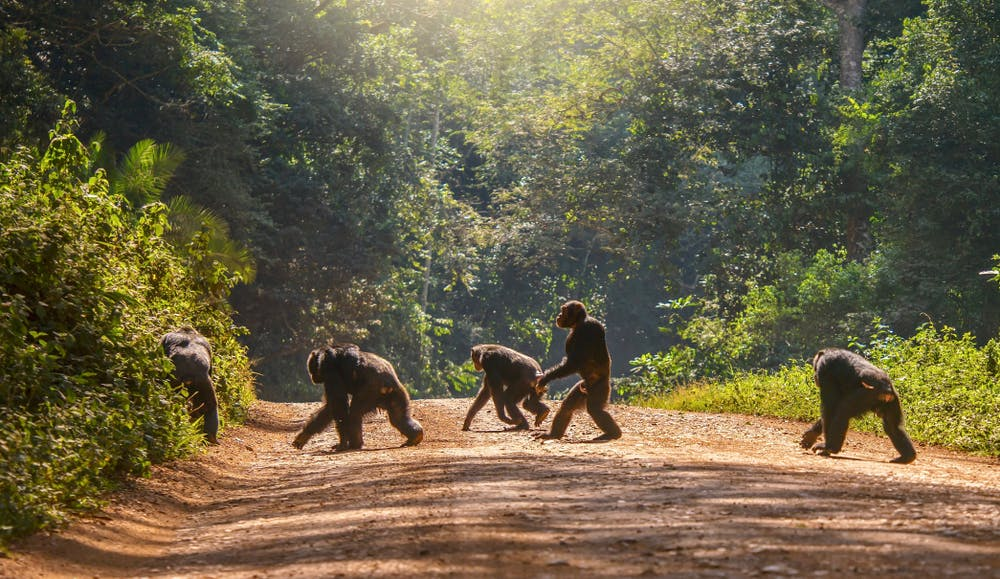Chimpanzee: (788, 341, 920, 468), (298, 342, 425, 454), (539, 294, 627, 442), (461, 338, 544, 437), (159, 322, 224, 442)
